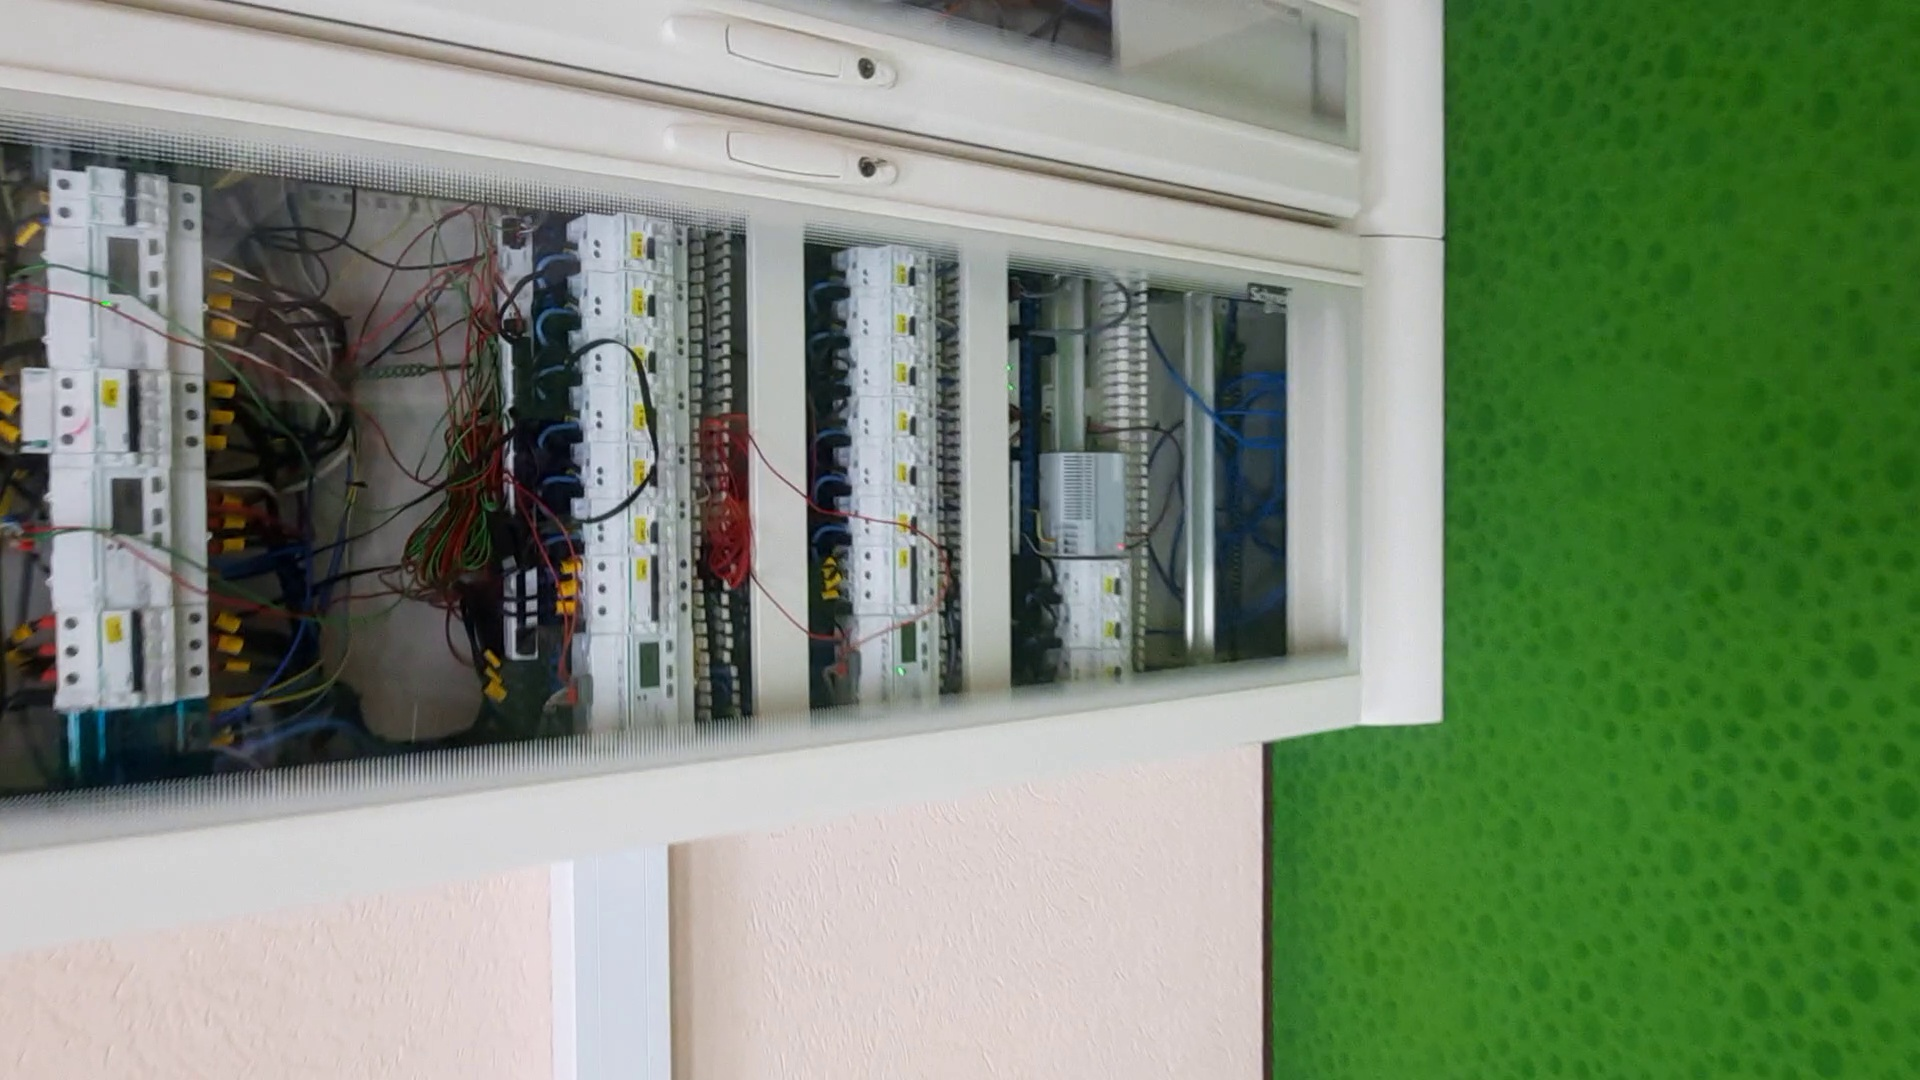stand1: (1, 4, 1457, 874)
